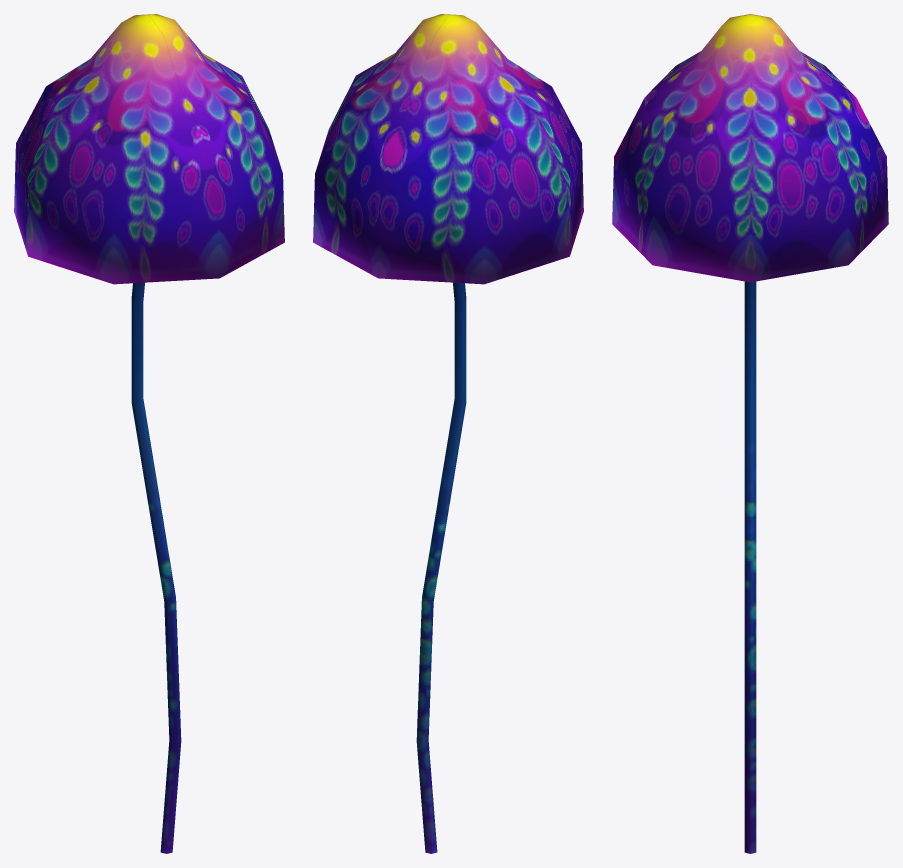
File: Mushroom_04b.FBX
The picture shows the model from 3 angles, left to right: view 1: azimuth 30°, elevation 25°; view 2: azimuth 150°, elevation 25°; view 3: azimuth 270°, elevation 25°; orthographic projection.
Visible parts, largest first — view 1: Mushroom_04b; view 2: Mushroom_04b; view 3: Mushroom_04b.
Part boxes in pixels (bbox=[...]): Mushroom_04b: bbox=[14, 14, 284, 853]; Mushroom_04b: bbox=[313, 14, 583, 853]; Mushroom_04b: bbox=[612, 14, 888, 853].
Size of the model in its own units: 100 by 332 by 101.
